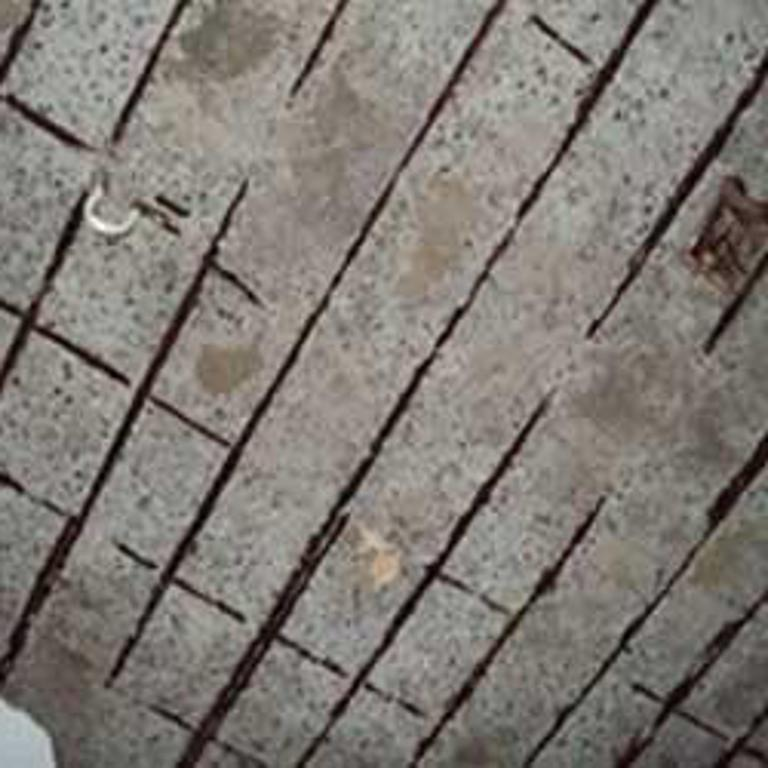exposed_rebar: (174, 0, 658, 767), (106, 0, 506, 682), (0, 180, 247, 680), (292, 386, 556, 768), (522, 430, 768, 767), (408, 495, 608, 768), (584, 51, 768, 338), (615, 590, 768, 768), (0, 189, 88, 392), (111, 0, 190, 145), (704, 250, 767, 353), (33, 322, 130, 387), (290, 0, 349, 97), (0, 94, 96, 151), (148, 394, 230, 447), (172, 578, 248, 623), (0, 0, 41, 83), (276, 633, 348, 678), (0, 470, 69, 516), (363, 684, 424, 716), (212, 738, 268, 768), (112, 541, 158, 569), (148, 704, 194, 732), (0, 298, 24, 317)
spalling: (0, 0, 768, 768)
